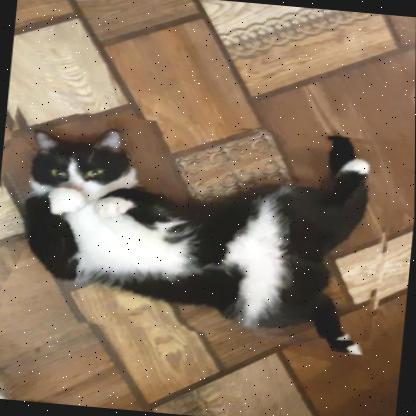cat: (0, 108, 399, 352)
